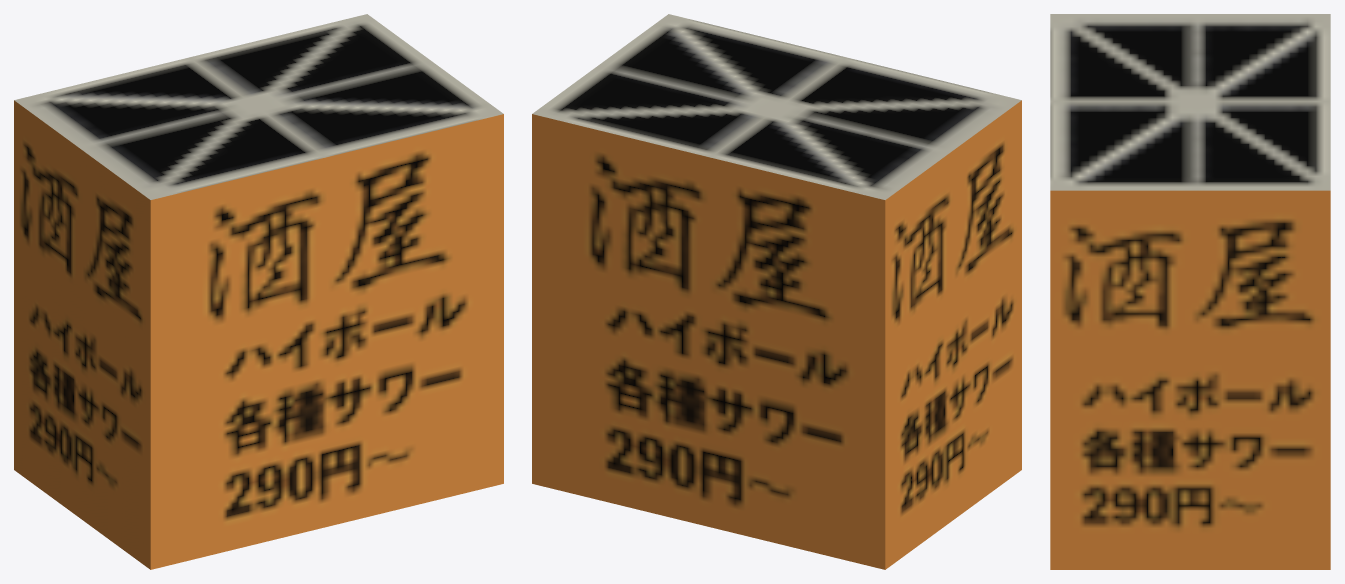
Rendered from Prop_Signbox_U.fbx.
The picture shows the model from 3 angles, left to right: view 1: azimuth 30°, elevation 25°; view 2: azimuth 150°, elevation 25°; view 3: azimuth 270°, elevation 25°; orthographic projection. The views are drawn at different scales.
Parts seen in each view (by area): view 1: Prop_Signbox_U; view 2: Prop_Signbox_U; view 3: Prop_Signbox_U.
Part boxes in pixels (x1=…): Prop_Signbox_U: x1=14, y1=14, x2=503, y2=569; Prop_Signbox_U: x1=532, y1=14, x2=1021, y2=569; Prop_Signbox_U: x1=1050, y1=14, x2=1330, y2=569.
Bounding box in the file's own units: 500 × 500 × 335.
